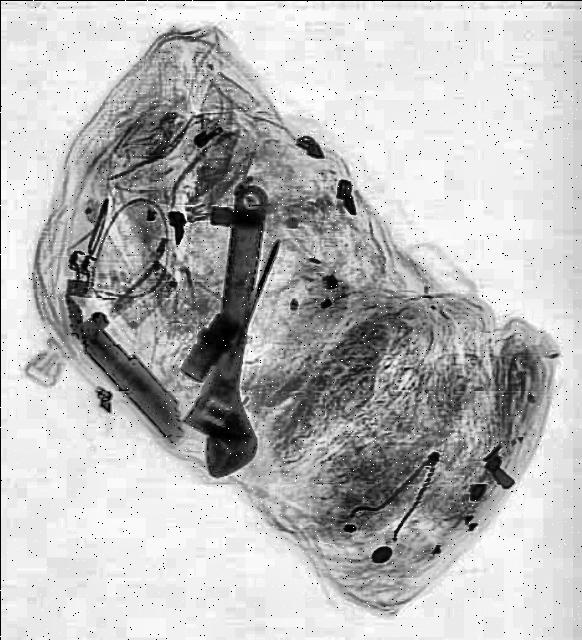Wrench: (177, 178, 282, 480)
